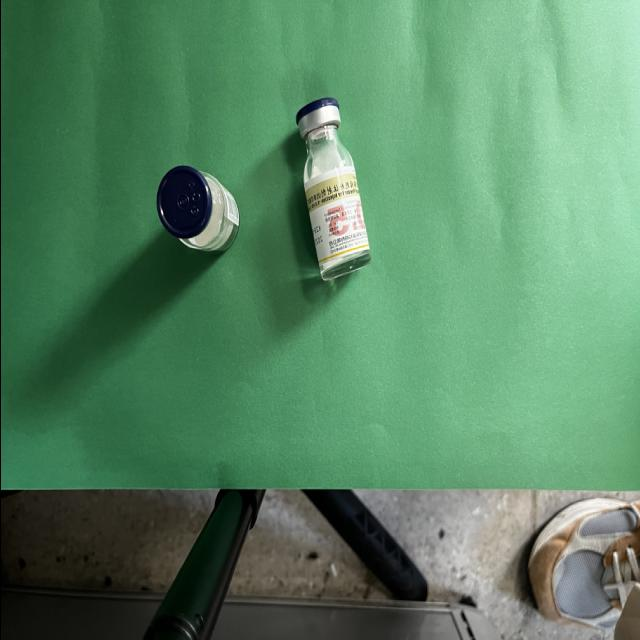Vials: (296, 99, 370, 281), (156, 166, 238, 254)
